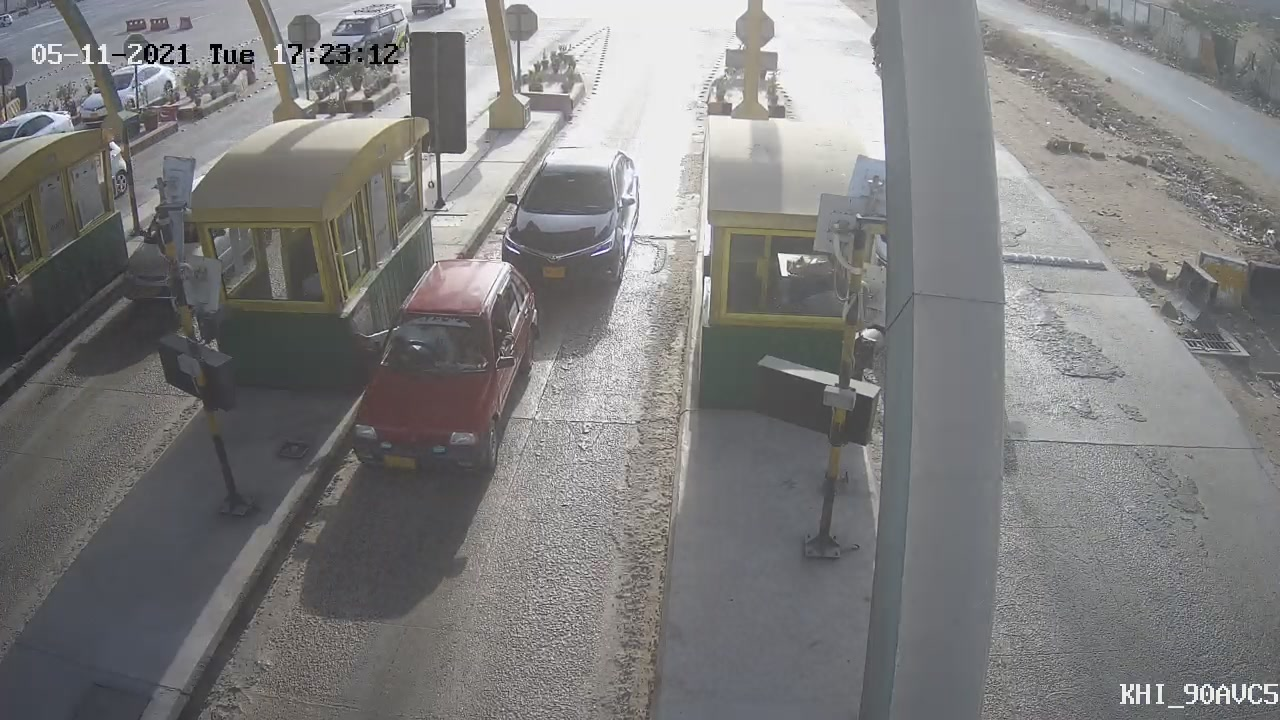F1: (318, 244, 566, 508), (487, 131, 653, 309)
